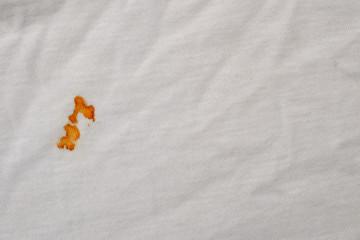gun: (58, 92, 94, 153)
